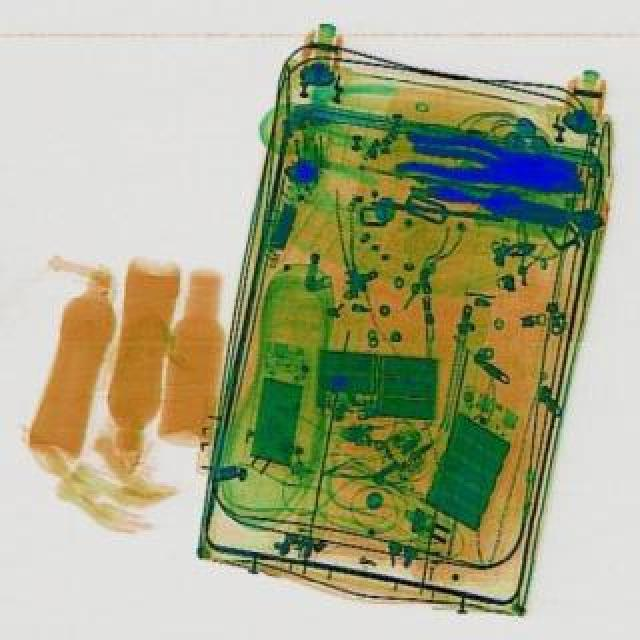wrench: (392, 122, 580, 202)
